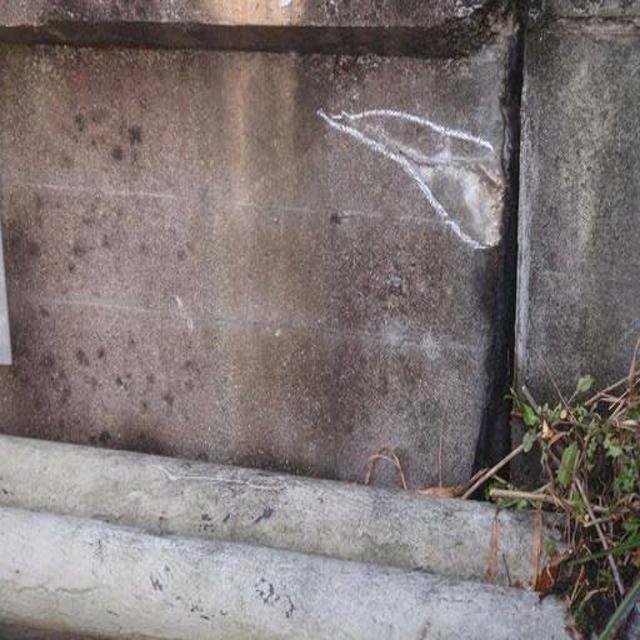spalling: (357, 109, 519, 258)
